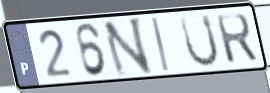2: (37, 28, 74, 79)
6: (73, 21, 107, 79)
I: (150, 15, 172, 73)
N: (100, 15, 155, 80)
R: (213, 11, 260, 66)
U: (177, 12, 221, 70)
